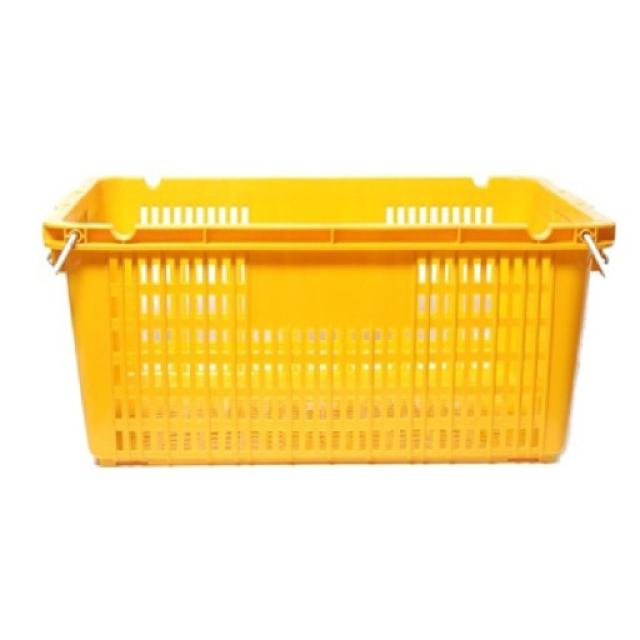basket: (43, 174, 619, 467)
